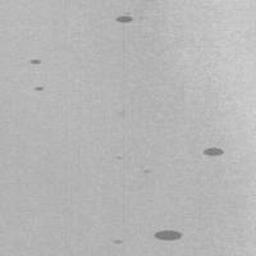Oil spot: (154, 229, 184, 243), (202, 146, 225, 157), (115, 14, 133, 24), (29, 58, 44, 65), (111, 238, 124, 246), (33, 86, 45, 92)
